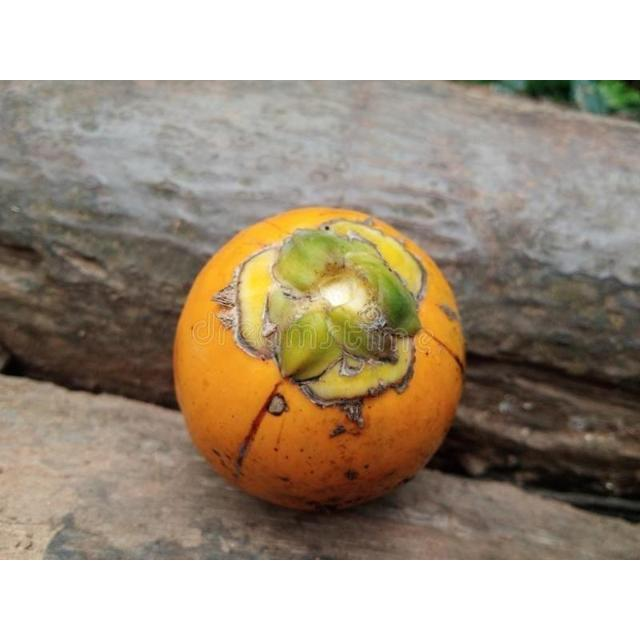good: (171, 207, 466, 514)
